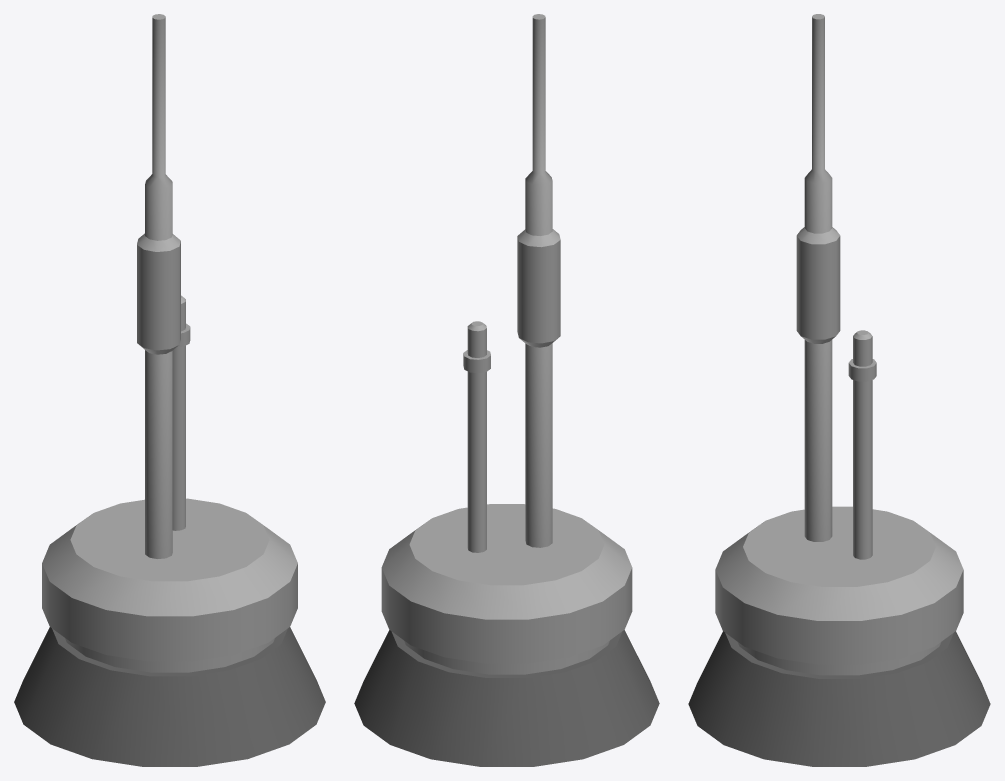
File: antenna.glb
3 views of the same model, side by side, from view 1: azimuth 30°, elevation 25°; view 2: azimuth 150°, elevation 25°; view 3: azimuth 270°, elevation 25° (orthographic). The views are drawn at different scales.
Visible parts, largest first — view 1: Roof_Antenna; view 2: Roof_Antenna; view 3: Roof_Antenna.
Boxes of the visible parts, bbox=[...] form: Roof_Antenna: bbox=[14, 14, 325, 766]; Roof_Antenna: bbox=[354, 14, 659, 766]; Roof_Antenna: bbox=[688, 14, 990, 766].
Bounding box in the file's own units: 1.41 × 3.54 × 1.43.
Materials: 1 (1 with a texture image).
